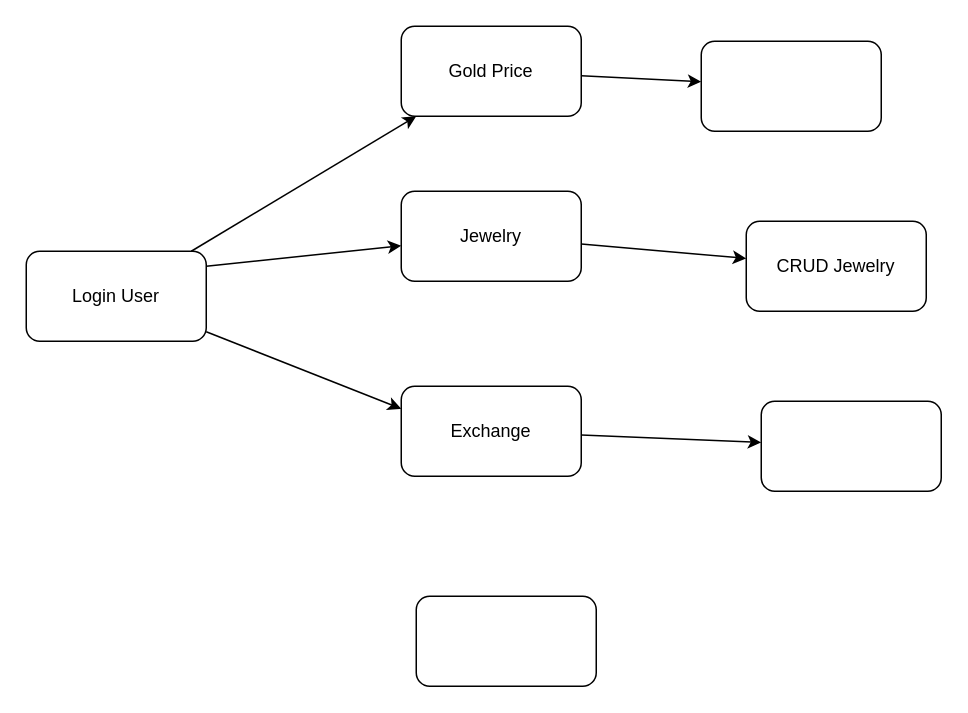
The diagram is 968 pixels wide and 713 high, and some of its shapes have lost their labels. Here are the shapes that lost their labels. From the top down, the box of each, then its label:
(700, 40, 881, 131): Display gold price on TV
(760, 400, 941, 491): Display exchange configuration
(415, 595, 596, 686): Logout
